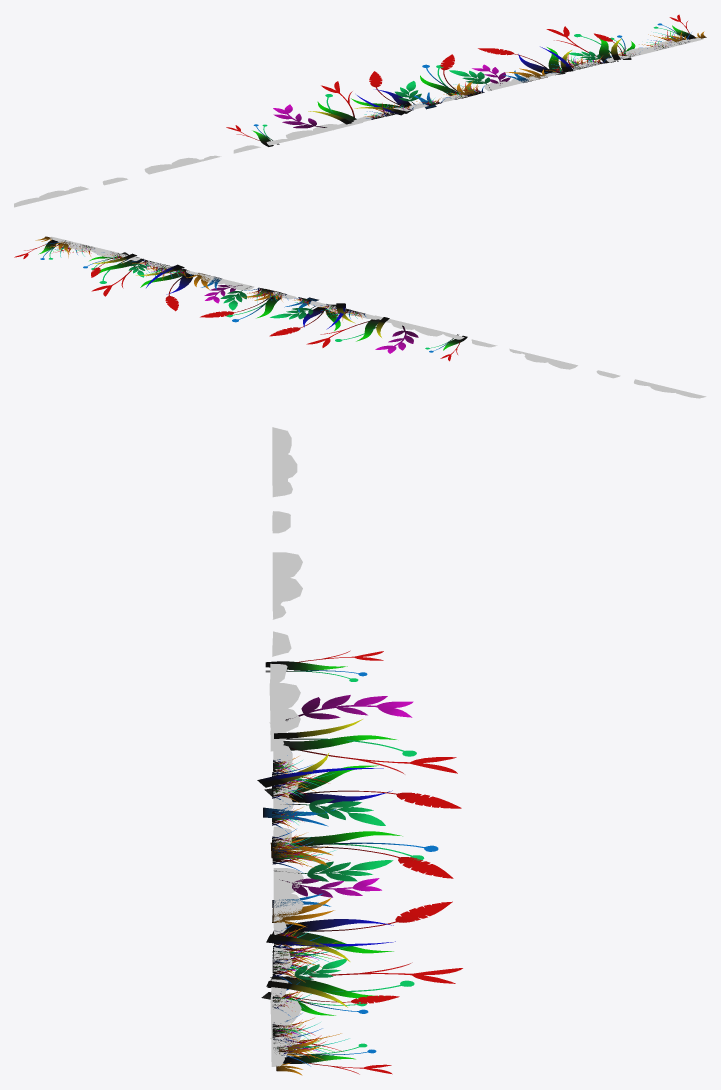
The model's file is grass.fbx.
3 renders of one model, top to bottom at view 1: azimuth 30°, elevation 25°; view 2: azimuth 150°, elevation 25°; view 3: azimuth 270°, elevation 25°, orthographic. The views are drawn at different scales.
Parts seen in each view (by area): view 1: stone.001, stone, g1.001, g1, g9.001, g2.001, g9, g2, g7, g3; view 2: stone.001, stone, g1.001, g1, g9.001, g9, g2, g2.001, g7, g3, g4, g4.001; view 3: stone.001, stone, g1.001, g1, g9.001, g2, g9, g7, g2.001, g3, g4.001, g4.
Part boxes in pixels (bbox=[...]): stone.001: bbox=[14, 122, 363, 207]; stone: bbox=[353, 38, 703, 123]; g1.001: bbox=[478, 46, 573, 75]; g1: bbox=[351, 71, 411, 115]; g9.001: bbox=[544, 30, 691, 74]; g2.001: bbox=[546, 26, 621, 63]; g9: bbox=[364, 82, 484, 119]; g2: bbox=[308, 81, 356, 124]; g7: bbox=[420, 54, 459, 95]; g3: bbox=[273, 104, 326, 128]; stone.001: bbox=[375, 315, 706, 398]; stone: bbox=[50, 236, 382, 319]; g1.001: bbox=[136, 264, 193, 311]; g1: bbox=[269, 303, 355, 336]; g9.001: bbox=[46, 240, 191, 280]; g9: bbox=[244, 287, 365, 320]; g2: bbox=[306, 317, 389, 347]; g2.001: bbox=[91, 253, 142, 296]; g7: bbox=[200, 296, 280, 322]; g3: bbox=[375, 325, 418, 353]; g4: bbox=[270, 306, 315, 319]; g4.001: bbox=[220, 286, 251, 310]; stone.001: bbox=[269, 427, 302, 751]; stone: bbox=[270, 742, 303, 1066]; g1.001: bbox=[266, 901, 452, 961]; g1: bbox=[257, 753, 461, 808]; g9.001: bbox=[272, 920, 349, 1066]; g2: bbox=[274, 719, 457, 774]; g9: bbox=[272, 755, 335, 872]; g7: bbox=[290, 831, 453, 878]; g2.001: bbox=[266, 962, 462, 1007]; g3: bbox=[285, 695, 413, 720]; g4.001: bbox=[274, 860, 393, 881]; g4: bbox=[285, 799, 385, 825].
Bounding box in the file's own units: 179497 × 409 × 24186.
